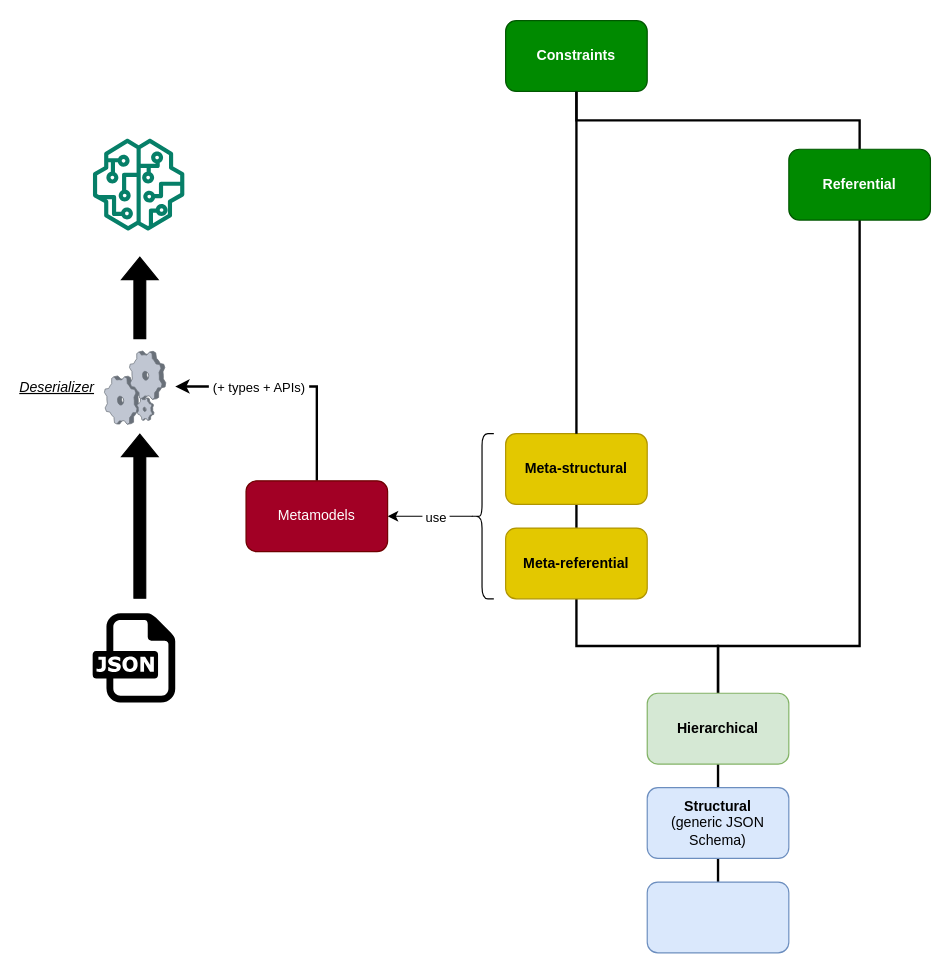
Image size: 951x973. Some labels were removed from this diagram. Here are the shapes that lost their labels. From the top down, the centre of each, then its label:
At point (138, 184): "deserialized model".
At point (133, 657): "serialized model".
At point (717, 917): "Low-level (JSON syntax)".
